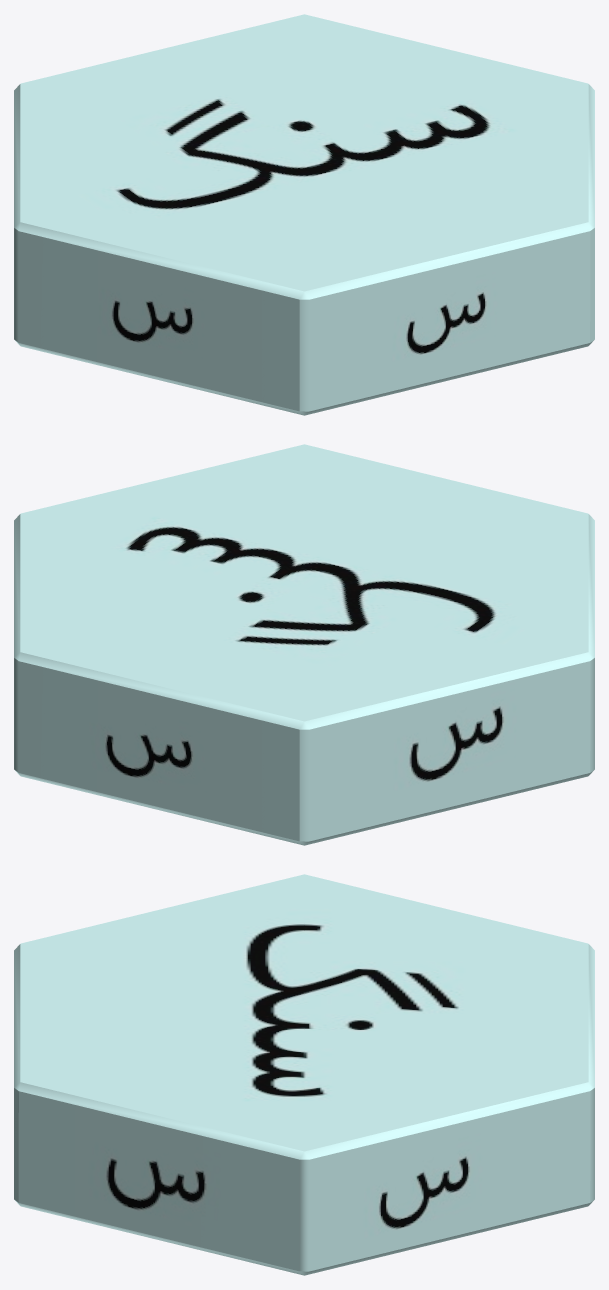
The model's file is Hexa.fbx.
The picture shows the model from 3 angles, top to bottom: view 1: azimuth 30°, elevation 25°; view 2: azimuth 150°, elevation 25°; view 3: azimuth 270°, elevation 25°; orthographic projection.
Visible parts, largest first — view 1: pCylinder1; view 2: pCylinder1; view 3: pCylinder1.
Boxes of the visible parts, x1,y1,x2,y2 form: pCylinder1: (14,14,594,415); pCylinder1: (14,444,594,845); pCylinder1: (14,874,594,1275).
Size of the model in its own units: 19.97 by 4.11 by 17.43.
